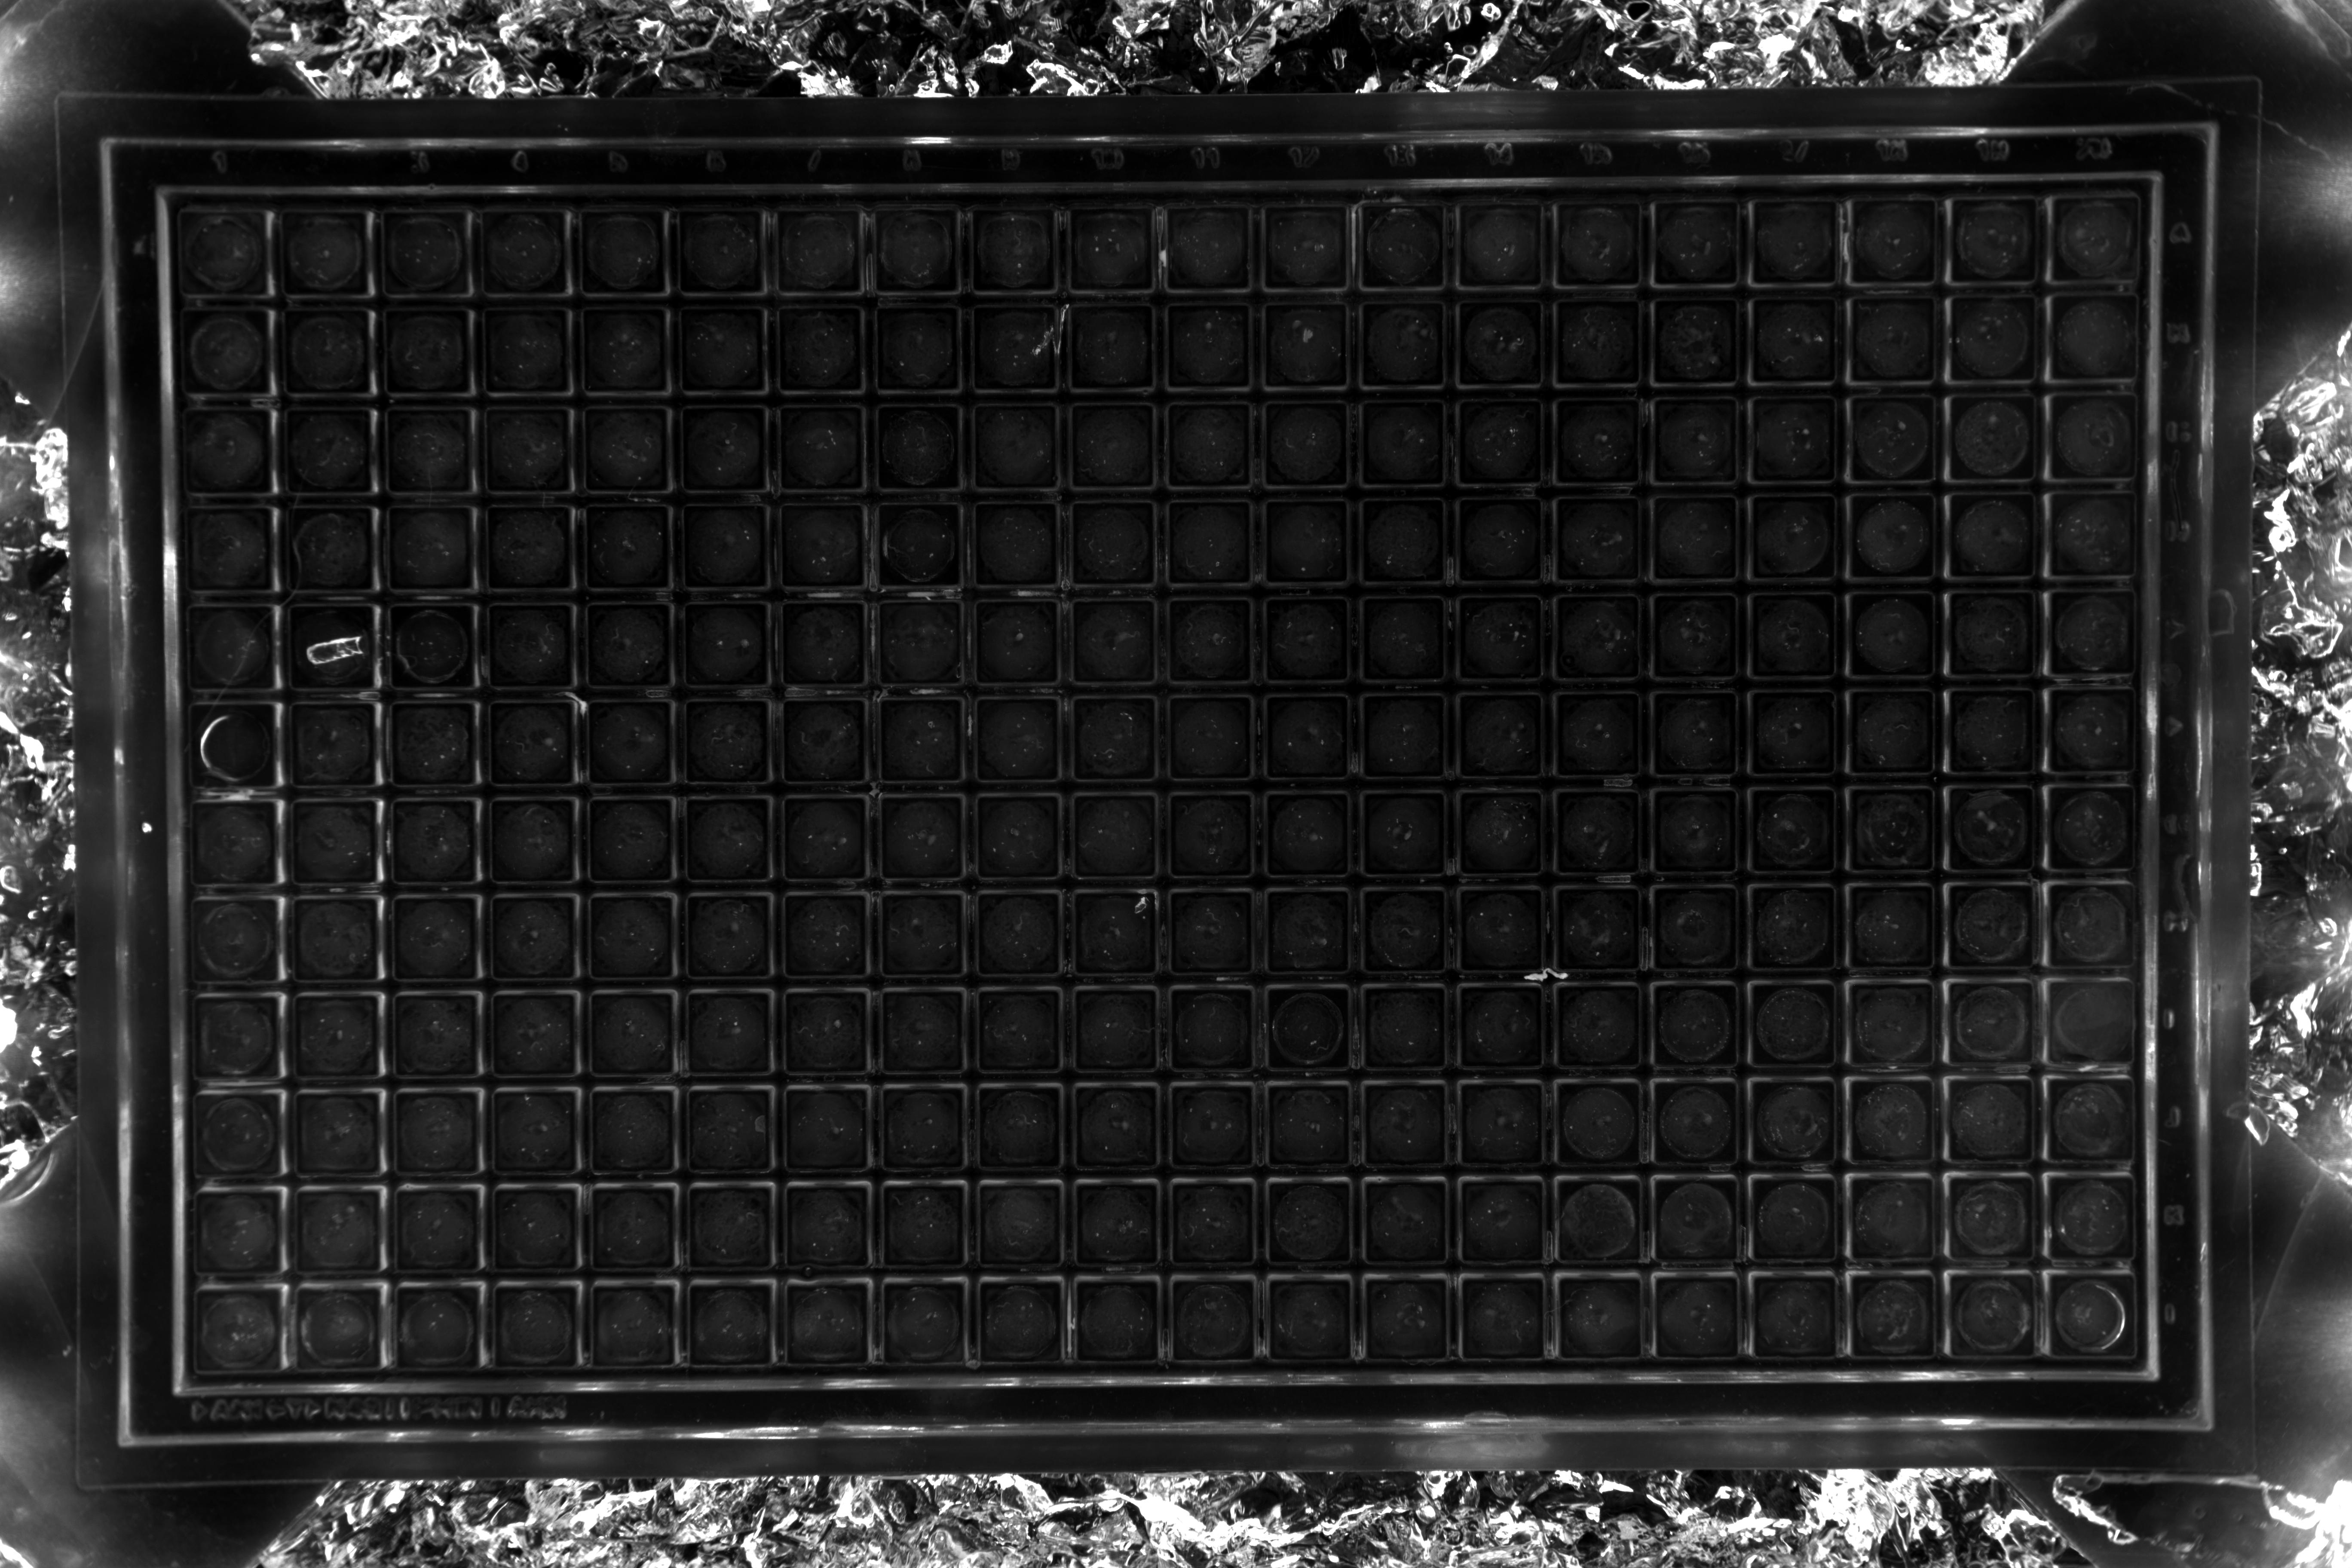WM_well: (789, 922, 878, 1010), (1272, 1209, 1360, 1298), (488, 238, 576, 325), (490, 338, 577, 425), (693, 1116, 780, 1204), (693, 1213, 780, 1300), (882, 142, 969, 229), (884, 338, 971, 425), (887, 824, 975, 912), (980, 142, 1067, 229), (983, 630, 1071, 717), (983, 824, 1071, 912), (1078, 142, 1165, 229), (1176, 822, 1263, 910), (1274, 240, 1361, 327), (1370, 532, 1458, 619), (1466, 920, 1554, 1008), (1563, 1113, 1650, 1200), (1666, 233, 1753, 320), (1760, 822, 1848, 910), (1860, 626, 1948, 714), (2058, 821, 2145, 908)
